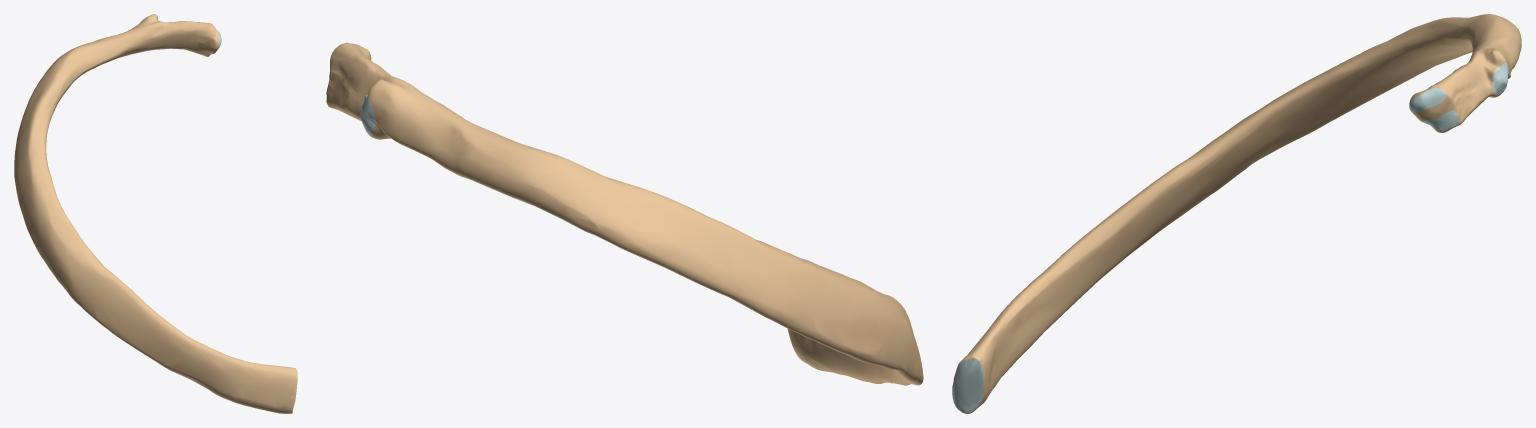
File: 3rd_rib.r_Generated_Mesh_From_X3D.858.glb
3 views of the same model, side by side, from view 1: azimuth 30°, elevation 25°; view 2: azimuth 150°, elevation 25°; view 3: azimuth 270°, elevation 25° (orthographic). The views are drawn at different scales.
Visible parts, largest first — view 1: 3rd_rib.r_Generated_Mesh_From_X3D.858; view 2: 3rd_rib.r_Generated_Mesh_From_X3D.858; view 3: 3rd_rib.r_Generated_Mesh_From_X3D.858.
Boxes of the visible parts, x1=… form: 3rd_rib.r_Generated_Mesh_From_X3D.858: x1=14, y1=14, x2=297, y2=413; 3rd_rib.r_Generated_Mesh_From_X3D.858: x1=326, y1=42, x2=923, y2=385; 3rd_rib.r_Generated_Mesh_From_X3D.858: x1=952, y1=14, x2=1521, y2=413.
Size of the model in its own units: 0.0955 by 0.1058 by 0.1392.
